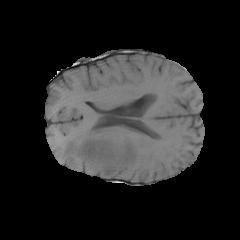glioma: (61, 126, 139, 177)
